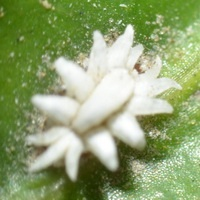insect: (27, 24, 181, 180)
